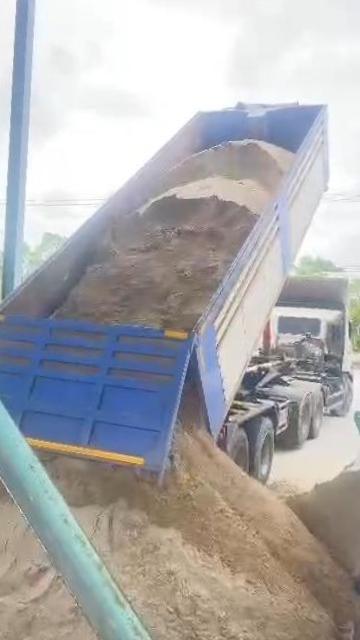sand: (47, 433, 357, 640), (58, 141, 292, 329), (0, 461, 112, 640), (287, 460, 360, 594), (169, 385, 209, 465), (270, 482, 304, 500)
